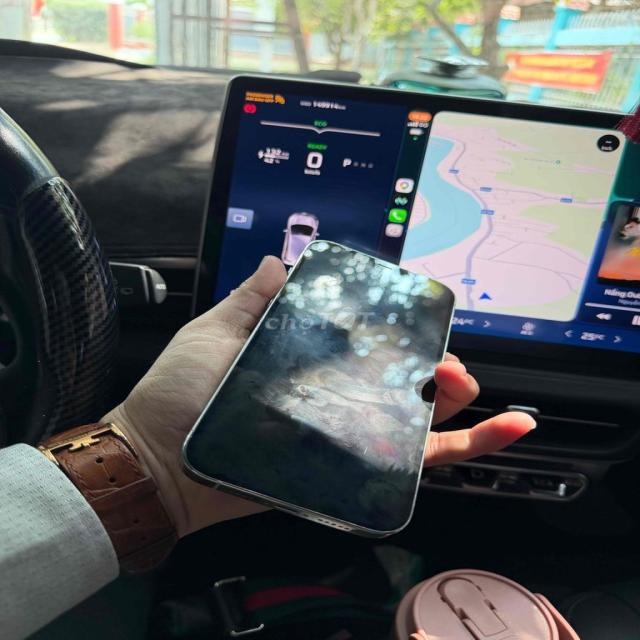gen_12_13: (178, 238, 456, 537)
